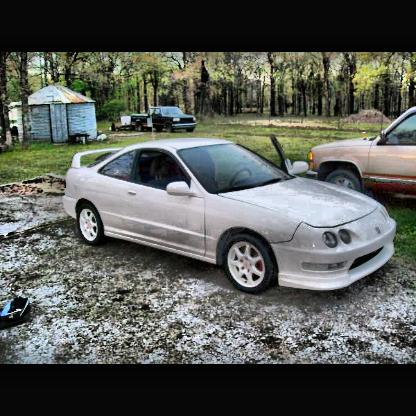Acura Integra Type R 2001: (64, 137, 398, 300)
